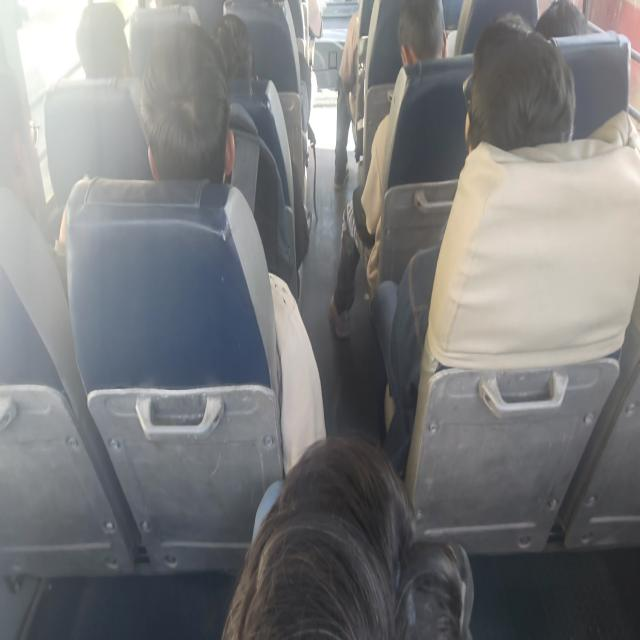person: (249, 418, 469, 640), (462, 23, 582, 159), (152, 33, 229, 196), (0, 72, 46, 206), (392, 0, 449, 100), (71, 0, 129, 86), (213, 15, 259, 81), (532, 0, 590, 41)
